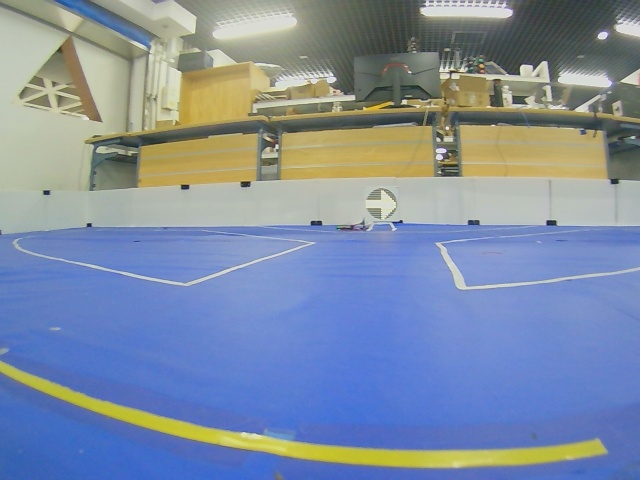right_yellow: (365, 188, 397, 220)
